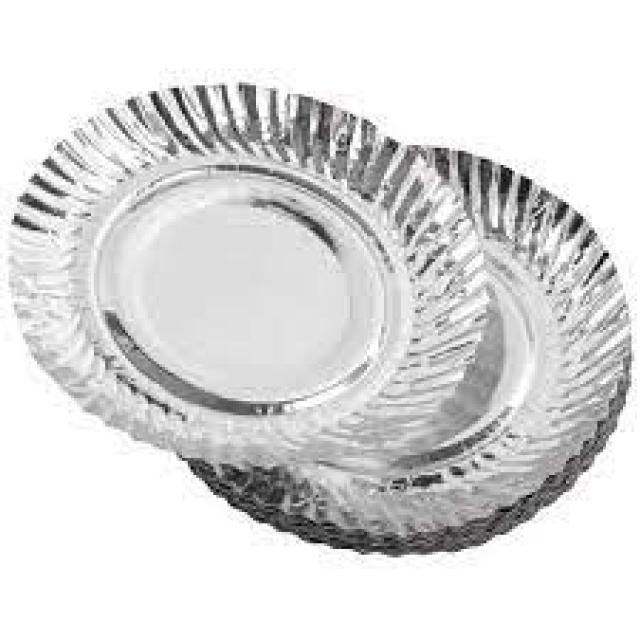PaperCardboard: (9, 85, 631, 556)
